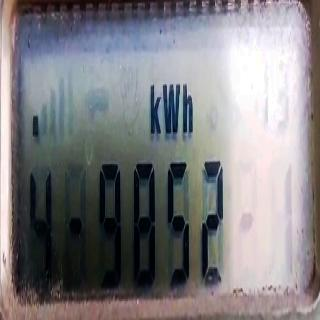-: (68, 214, 82, 238), (31, 112, 39, 139)
2: (200, 148, 228, 291)
4: (28, 163, 56, 287)
5: (163, 152, 192, 293)
8: (132, 155, 158, 292)
9: (96, 158, 124, 298)
